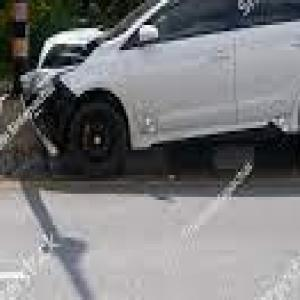minor: (9, 0, 300, 181)
